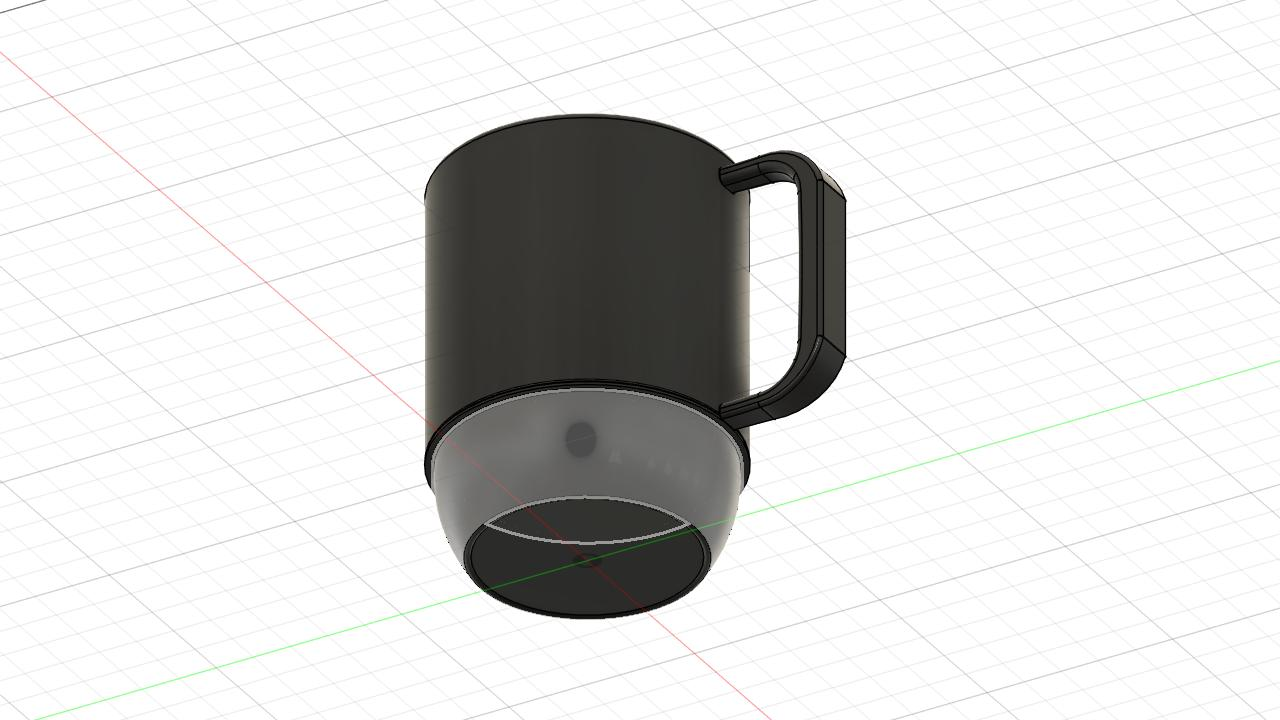mug-real100-3d100: (424, 115, 845, 618)
